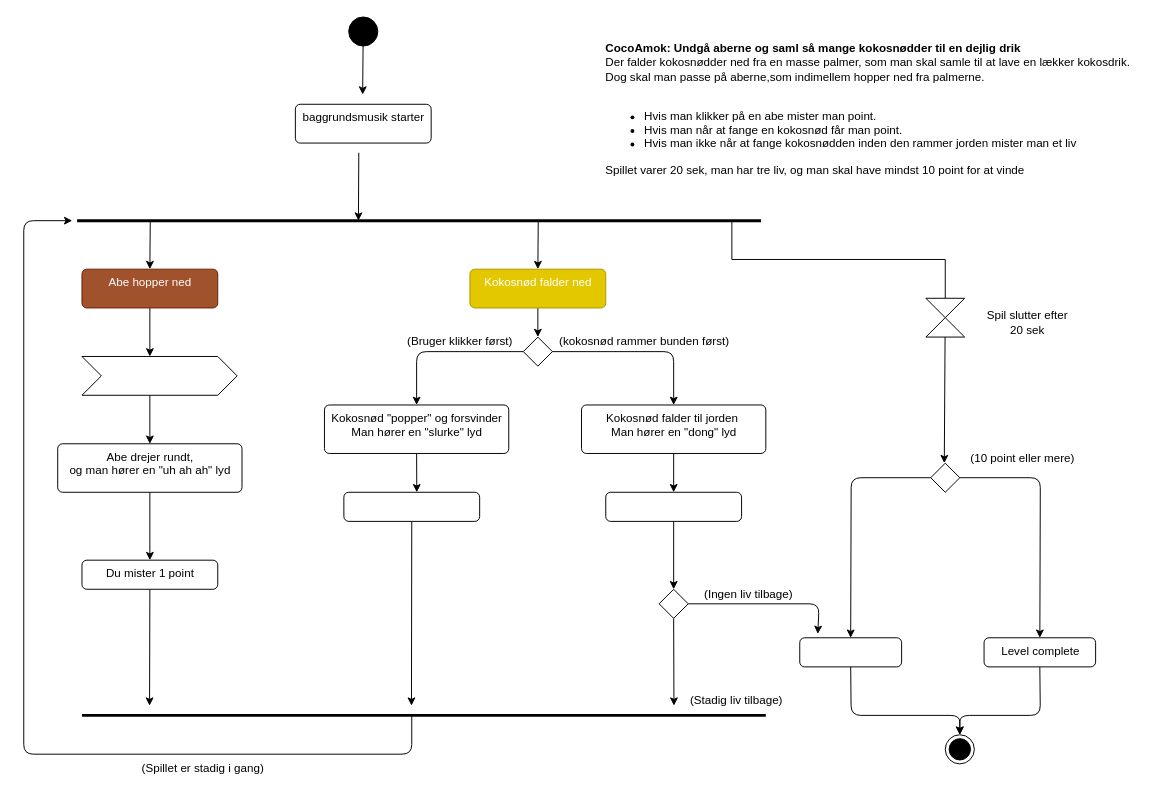
This 1165x800 diagram has some shape labels left out. Each missing label, with the box of its shape:
Du får 1 point: (343, 491, 480, 521)
Du mister 1 liv: (605, 491, 742, 521)
Game over: (799, 637, 902, 667)
Klik på abe: (81, 356, 237, 395)
